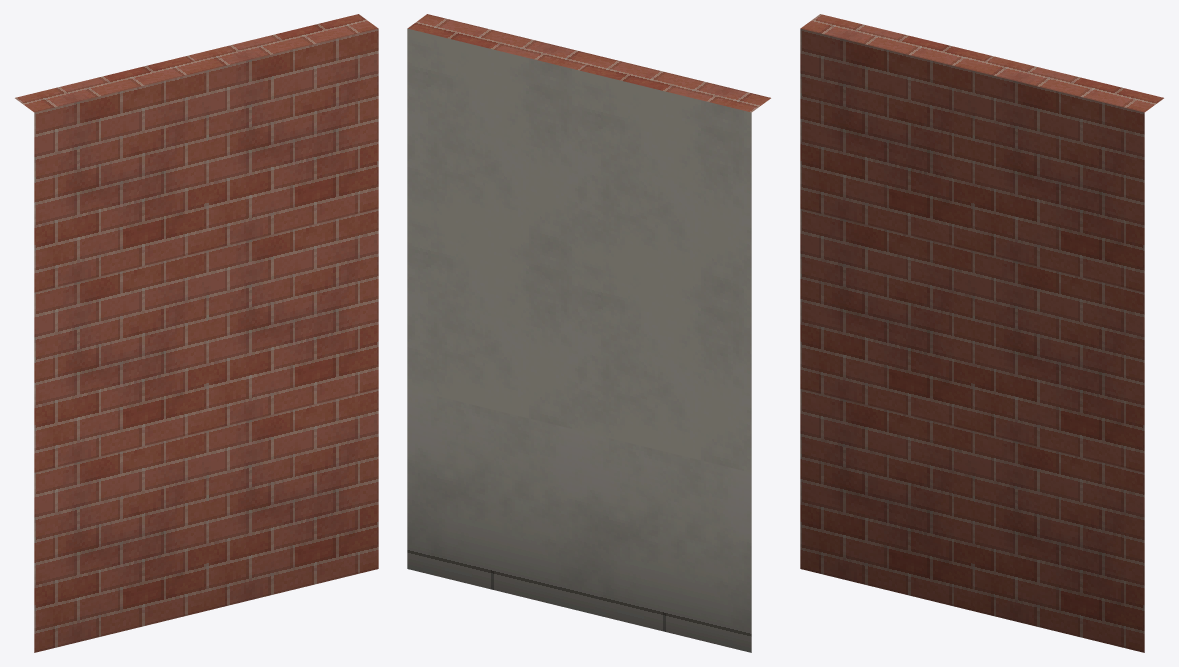
Rendered from wall_brick.glb.
The picture shows the model from 3 angles, left to right: view 1: azimuth 30°, elevation 25°; view 2: azimuth 150°, elevation 25°; view 3: azimuth 330°, elevation 25°; orthographic projection.
Parts seen in each view (by area): view 1: wall_brick; view 2: wall_brick; view 3: wall_brick.
Boxes of the visible parts, x1,y1,x2,y2 form: wall_brick: (15,14,378,652); wall_brick: (407,14,770,652); wall_brick: (800,14,1163,652).
Size of the model in its own units: 2 by 3 by 0.2.
Materials: 1 (1 with a texture image).
